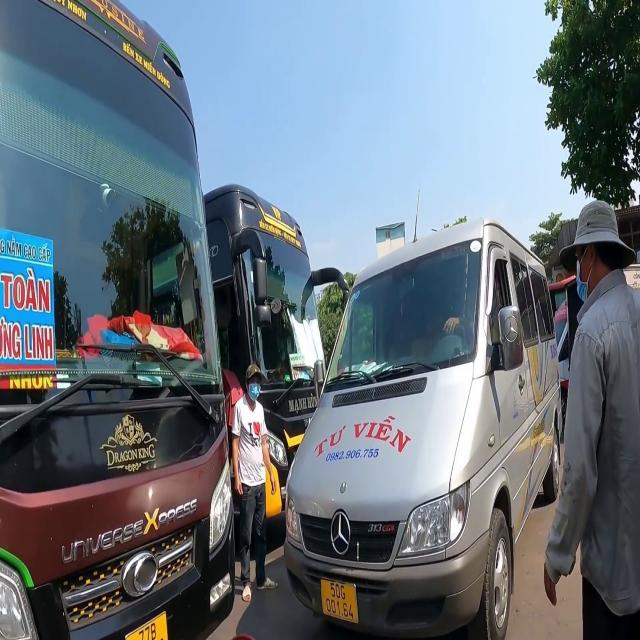bien_vang: (319, 576, 359, 625), (123, 610, 172, 640)
